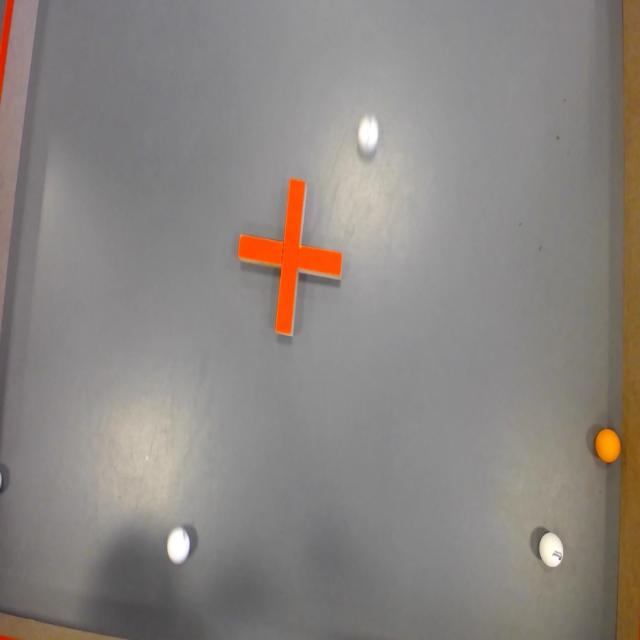obstacle: (237, 178, 343, 337)
orange-golf-balls: (592, 428, 622, 465)
white-golf-balls: (539, 532, 566, 571), (166, 527, 192, 563), (358, 115, 377, 152)
